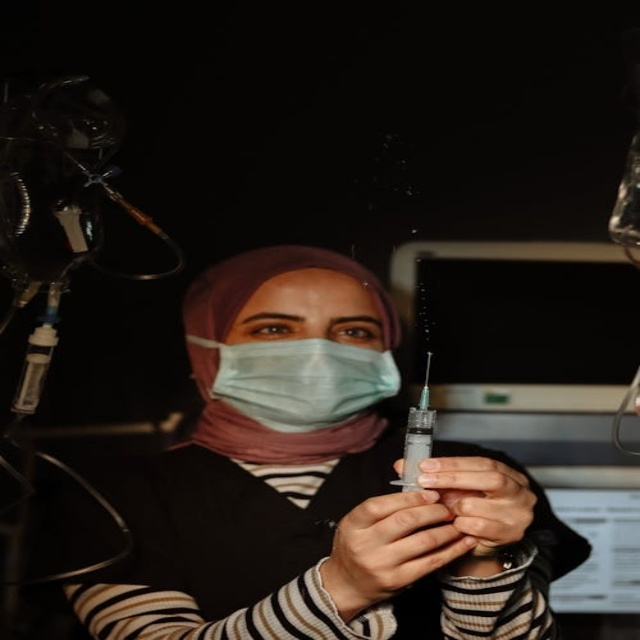Mascara: (200, 336, 404, 430)
Sin_gafas: (237, 307, 383, 345)
Sin_guantes: (326, 487, 470, 597), (394, 454, 541, 558)
